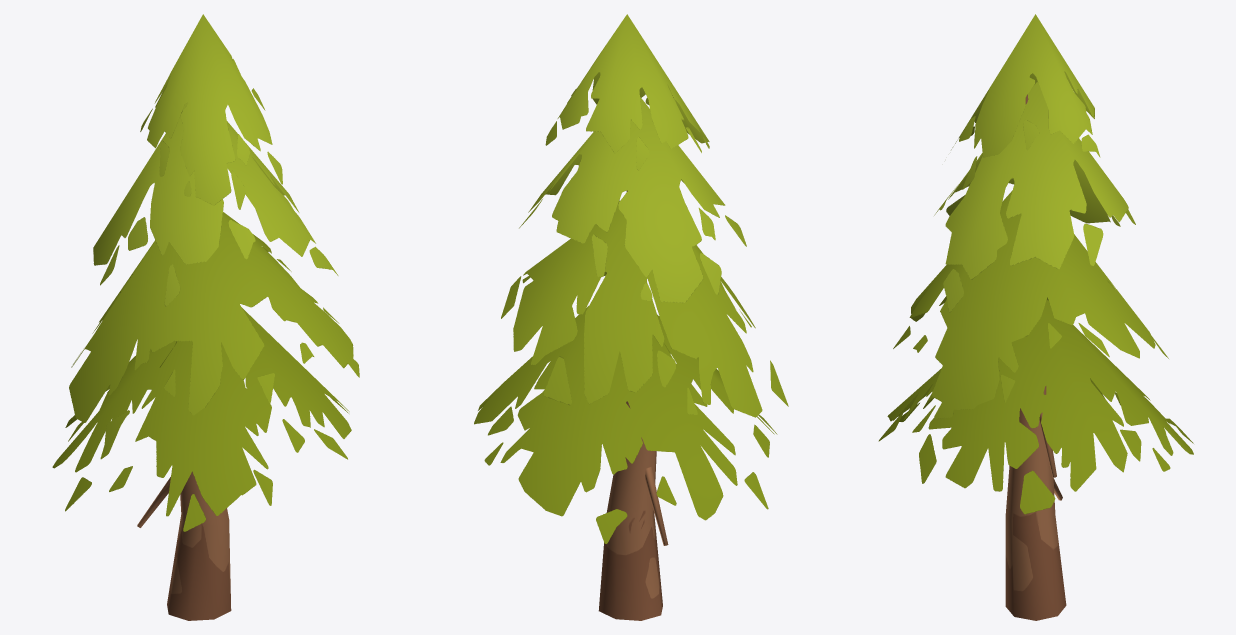
File: sm_full_tree_1.fbx
The picture shows the model from 3 angles, left to right: view 1: azimuth 30°, elevation 25°; view 2: azimuth 150°, elevation 25°; view 3: azimuth 270°, elevation 25°; orthographic projection.
Visible parts, largest first — view 1: sm_full_tree_1_LOD00; view 2: sm_full_tree_1_LOD00; view 3: sm_full_tree_1_LOD00.
Boxes of the visible parts, x1,y1,x2,y2 form: sm_full_tree_1_LOD00: (52,14,359,620); sm_full_tree_1_LOD00: (474,14,788,620); sm_full_tree_1_LOD00: (878,14,1193,620).
Size of what is drawn, in the model's own units: 3.34 by 5.89 by 3.35.
